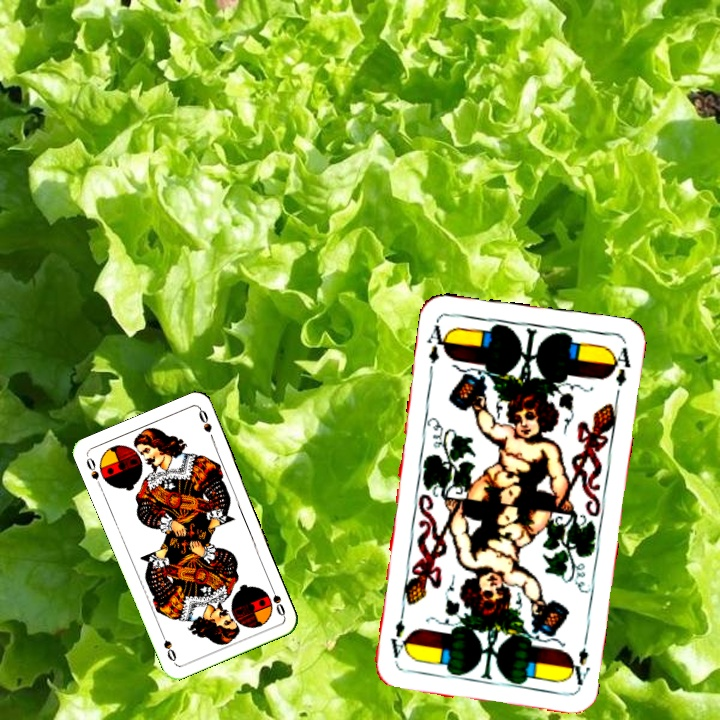EA: (564, 630, 593, 689), (423, 321, 452, 366)
SO: (266, 580, 288, 619), (82, 452, 104, 491)
